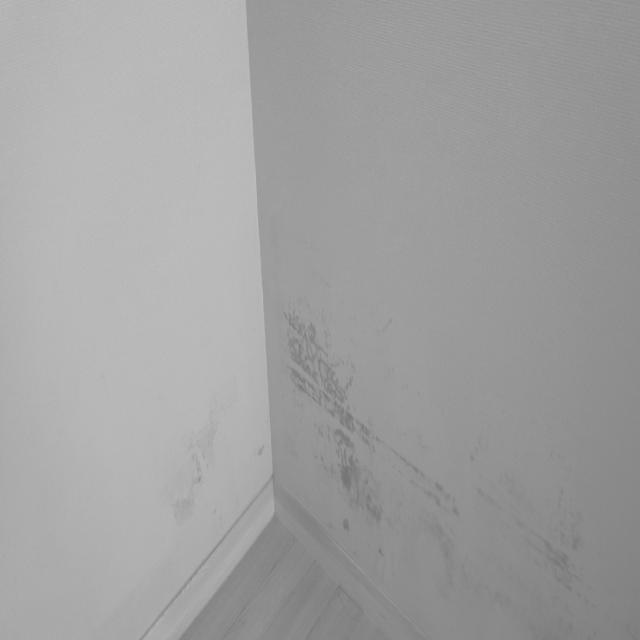stain marks: (273, 302, 462, 612), (463, 412, 640, 640), (163, 383, 226, 529), (244, 417, 271, 472)
